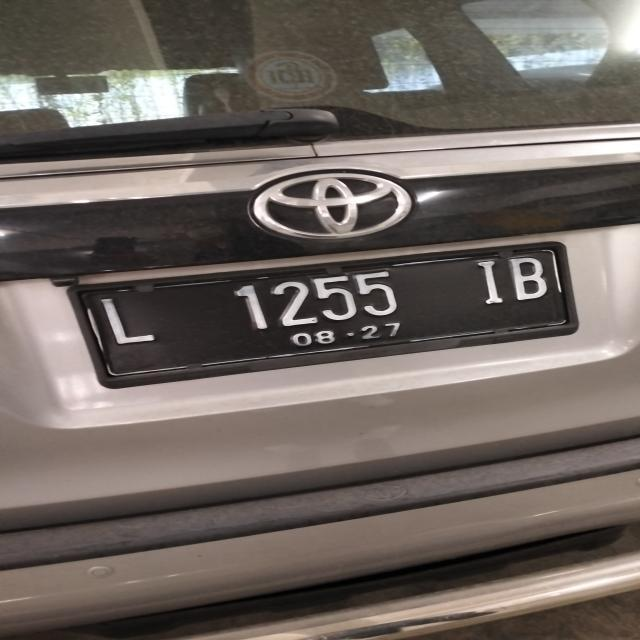1: (225, 285, 272, 330)
2: (272, 280, 314, 328)
5: (356, 271, 401, 322), (320, 274, 358, 321)
B: (508, 258, 546, 302)
I: (471, 259, 506, 307)
L: (87, 298, 161, 348)
